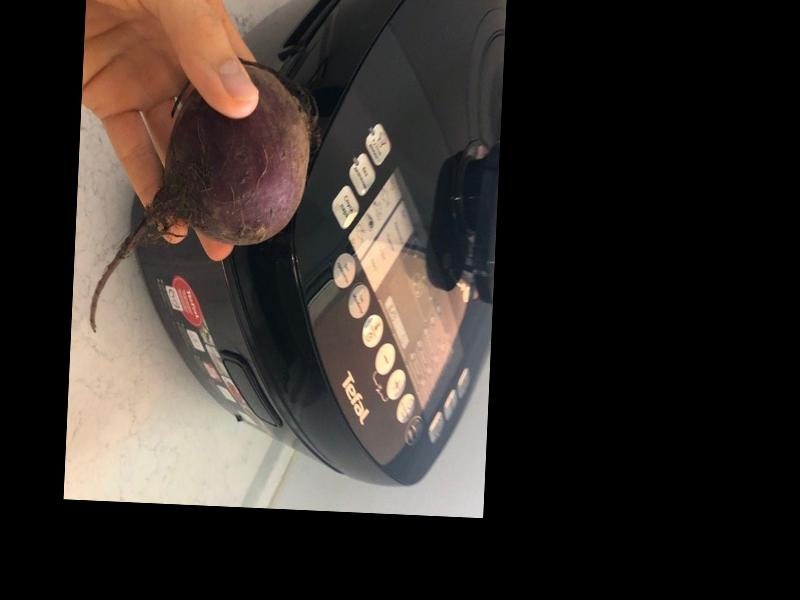Beet: (90, 54, 322, 340)
